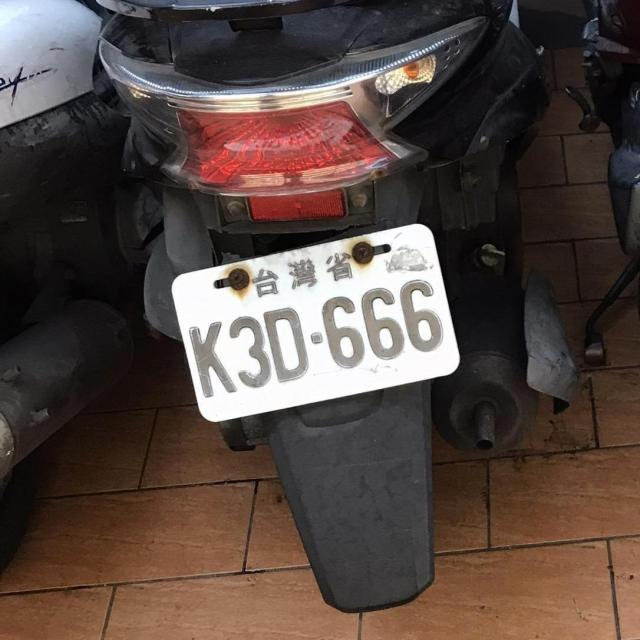W: (168, 222, 463, 426)
